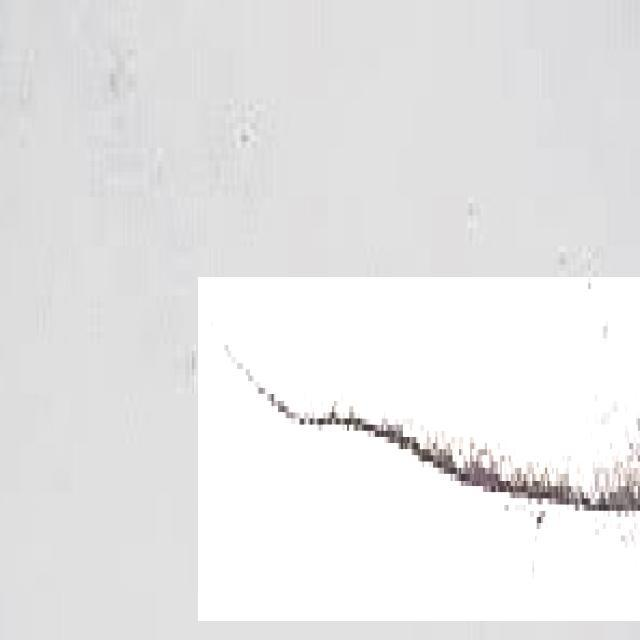crack: (199, 278, 640, 622)
